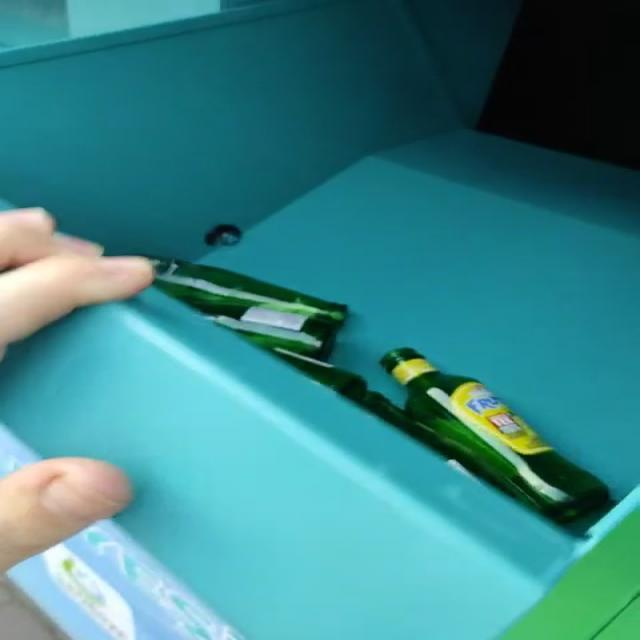Glass: (151, 259, 608, 524)
